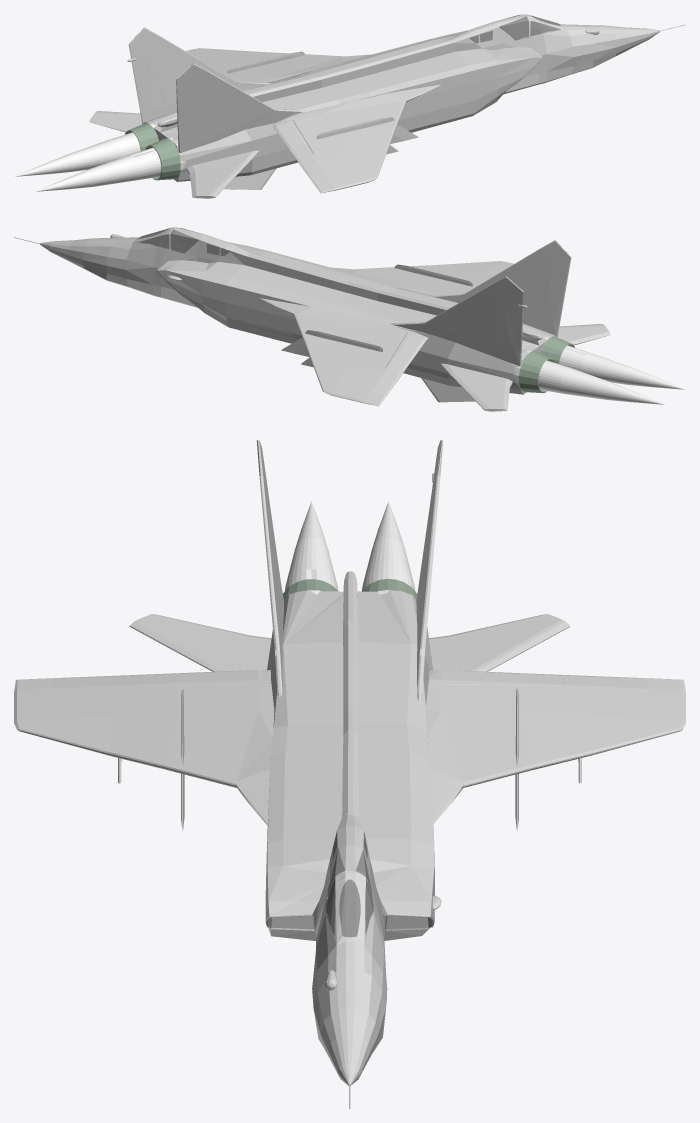
Rendered from mikoyan_mig31_foxhound.glb.
3 renders of one model, top to bottom at view 1: azimuth 30°, elevation 25°; view 2: azimuth 150°, elevation 25°; view 3: azimuth 270°, elevation 25°, orthographic. The views are drawn at different scales.
Visible parts, largest first — view 1: Fuselage, Wing, VerticalWing, Elevator, AfterburnerRight, AfterburnerLeft, Nose, Outjets, LeftRudder, Canopy, RightRudder, RightFlap (+2 smaller); view 2: Fuselage, Wing, VerticalWing, Elevator, AfterburnerLeft, AfterburnerRight, Nose, Outjets, RightRudder, Canopy, LeftRudder, LeftFlap (+2 smaller); view 3: Fuselage, Wing, Elevator, Nose, VerticalWing, Canopy, AfterburnerRight, AfterburnerLeft, RightFlap, LeftFlap, JetIntake_0, Outjets.
Part boxes in pixels (box(x1,y1,x2,y2)): Fuselage: box(143, 14, 593, 181); Wing: box(186, 48, 440, 193); VerticalWing: box(127, 27, 305, 152); Elevator: box(89, 111, 259, 198); AfterburnerRight: box(35, 147, 161, 191); AfterburnerLeft: box(14, 132, 140, 176); Nose: box(580, 24, 685, 67); Outjets: box(125, 123, 186, 180); LeftRudder: box(132, 62, 167, 112); Canopy: box(469, 14, 560, 42); RightRudder: box(176, 95, 205, 140); RightFlap: box(273, 120, 313, 160); Fuselage: box(106, 227, 556, 394); Wing: box(260, 261, 513, 406); VerticalWing: box(390, 240, 571, 365); Elevator: box(440, 324, 610, 411); AfterburnerLeft: box(538, 360, 664, 404); AfterburnerRight: box(559, 345, 684, 389); Nose: box(14, 237, 120, 280); Outjets: box(512, 336, 574, 393); RightRudder: box(532, 275, 567, 325); Canopy: box(138, 227, 230, 255); LeftRudder: box(494, 308, 523, 353); LeftFlap: box(386, 332, 426, 373); Fuselage: box(265, 571, 441, 1034); Wing: box(14, 670, 685, 831); Elevator: box(129, 614, 569, 671); Nose: box(313, 969, 385, 1108); VerticalWing: box(256, 440, 443, 702); Canopy: box(326, 831, 373, 937); AfterburnerRight: box(284, 501, 338, 591); AfterburnerLeft: box(362, 501, 415, 590); RightFlap: box(136, 670, 262, 686); LeftFlap: box(437, 670, 563, 686); JetIntake_0: box(266, 915, 433, 929); Outjets: box(283, 578, 417, 599).
Size of the model in its own units: 23.66 by 5.06 by 11.12.
